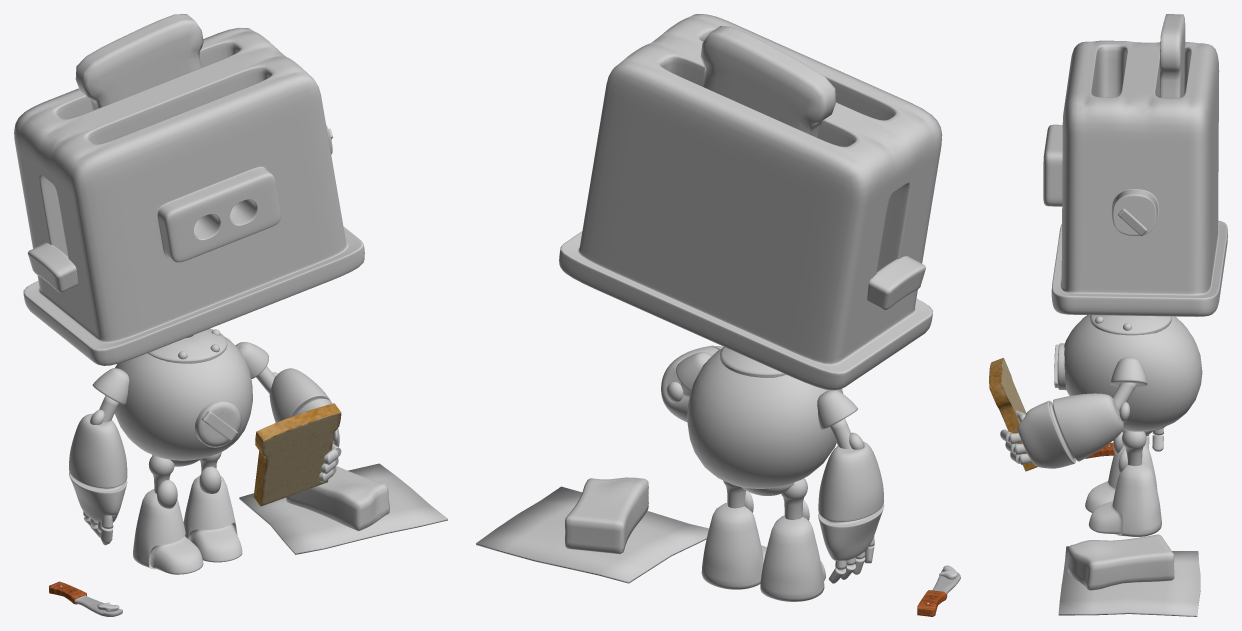
File: fondo con robot 2.fbx
3 views of the same model, side by side, from view 1: azimuth 30°, elevation 25°; view 2: azimuth 150°, elevation 25°; view 3: azimuth 270°, elevation 25° (orthographic). The views are drawn at different scales.
Parts seen in each view (by area): view 1: Box002.001; view 2: Box002.001; view 3: Box002.001.
Part boxes in pixels (box(x1,y1,x2,y2)): Box002.001: box(14, 14, 447, 616); Box002.001: box(476, 14, 960, 616); Box002.001: box(989, 14, 1227, 616).
Bounding box in the file's own units: 2024 × 2669 × 1179.
